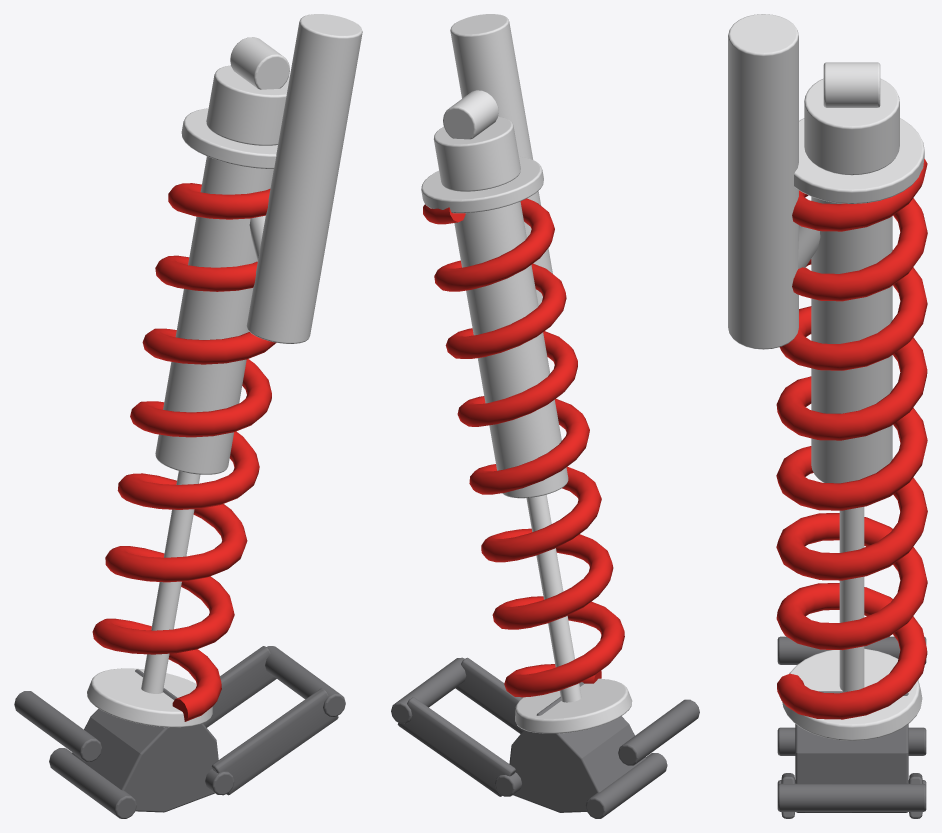
File: bike_mx_2t__rear_shock.glb
The picture shows the model from 3 angles, left to right: view 1: azimuth 30°, elevation 25°; view 2: azimuth 150°, elevation 25°; view 3: azimuth 270°, elevation 25°; orthographic projection. The views are drawn at different scales.
Parts seen in each view (by area): view 1: chassis__rear_shock__body, chassis__rear_shock__spring, chassis__rear_suspension_linkage, chassis__rear_shock__shaft; view 2: chassis__rear_shock__body, chassis__rear_shock__spring, chassis__rear_suspension_linkage, chassis__rear_shock__shaft; view 3: chassis__rear_shock__body, chassis__rear_shock__spring, chassis__rear_suspension_linkage, chassis__rear_shock__shaft.
Part boxes in pixels (left/top/right/bottom): chassis__rear_shock__body: left=87, top=14, right=362, bottom=727; chassis__rear_shock__spring: left=92, top=183, right=276, bottom=721; chassis__rear_suspension_linkage: left=14, top=646, right=345, bottom=818; chassis__rear_shock__shaft: left=141, top=471, right=200, bottom=693; chassis__rear_shock__body: left=421, top=14, right=632, bottom=733; chassis__rear_shock__spring: left=423, top=198, right=624, bottom=697; chassis__rear_suspension_linkage: left=391, top=657, right=699, bottom=818; chassis__rear_shock__shaft: left=526, top=494, right=581, bottom=702; chassis__rear_shock__body: left=728, top=14, right=924, bottom=740; chassis__rear_shock__spring: left=776, top=158, right=927, bottom=719; chassis__rear_suspension_linkage: left=777, top=636, right=926, bottom=818; chassis__rear_shock__shaft: left=839, top=507, right=864, bottom=691.
Size of the model in its own units: 19.46 by 52.62 by 11.28.
